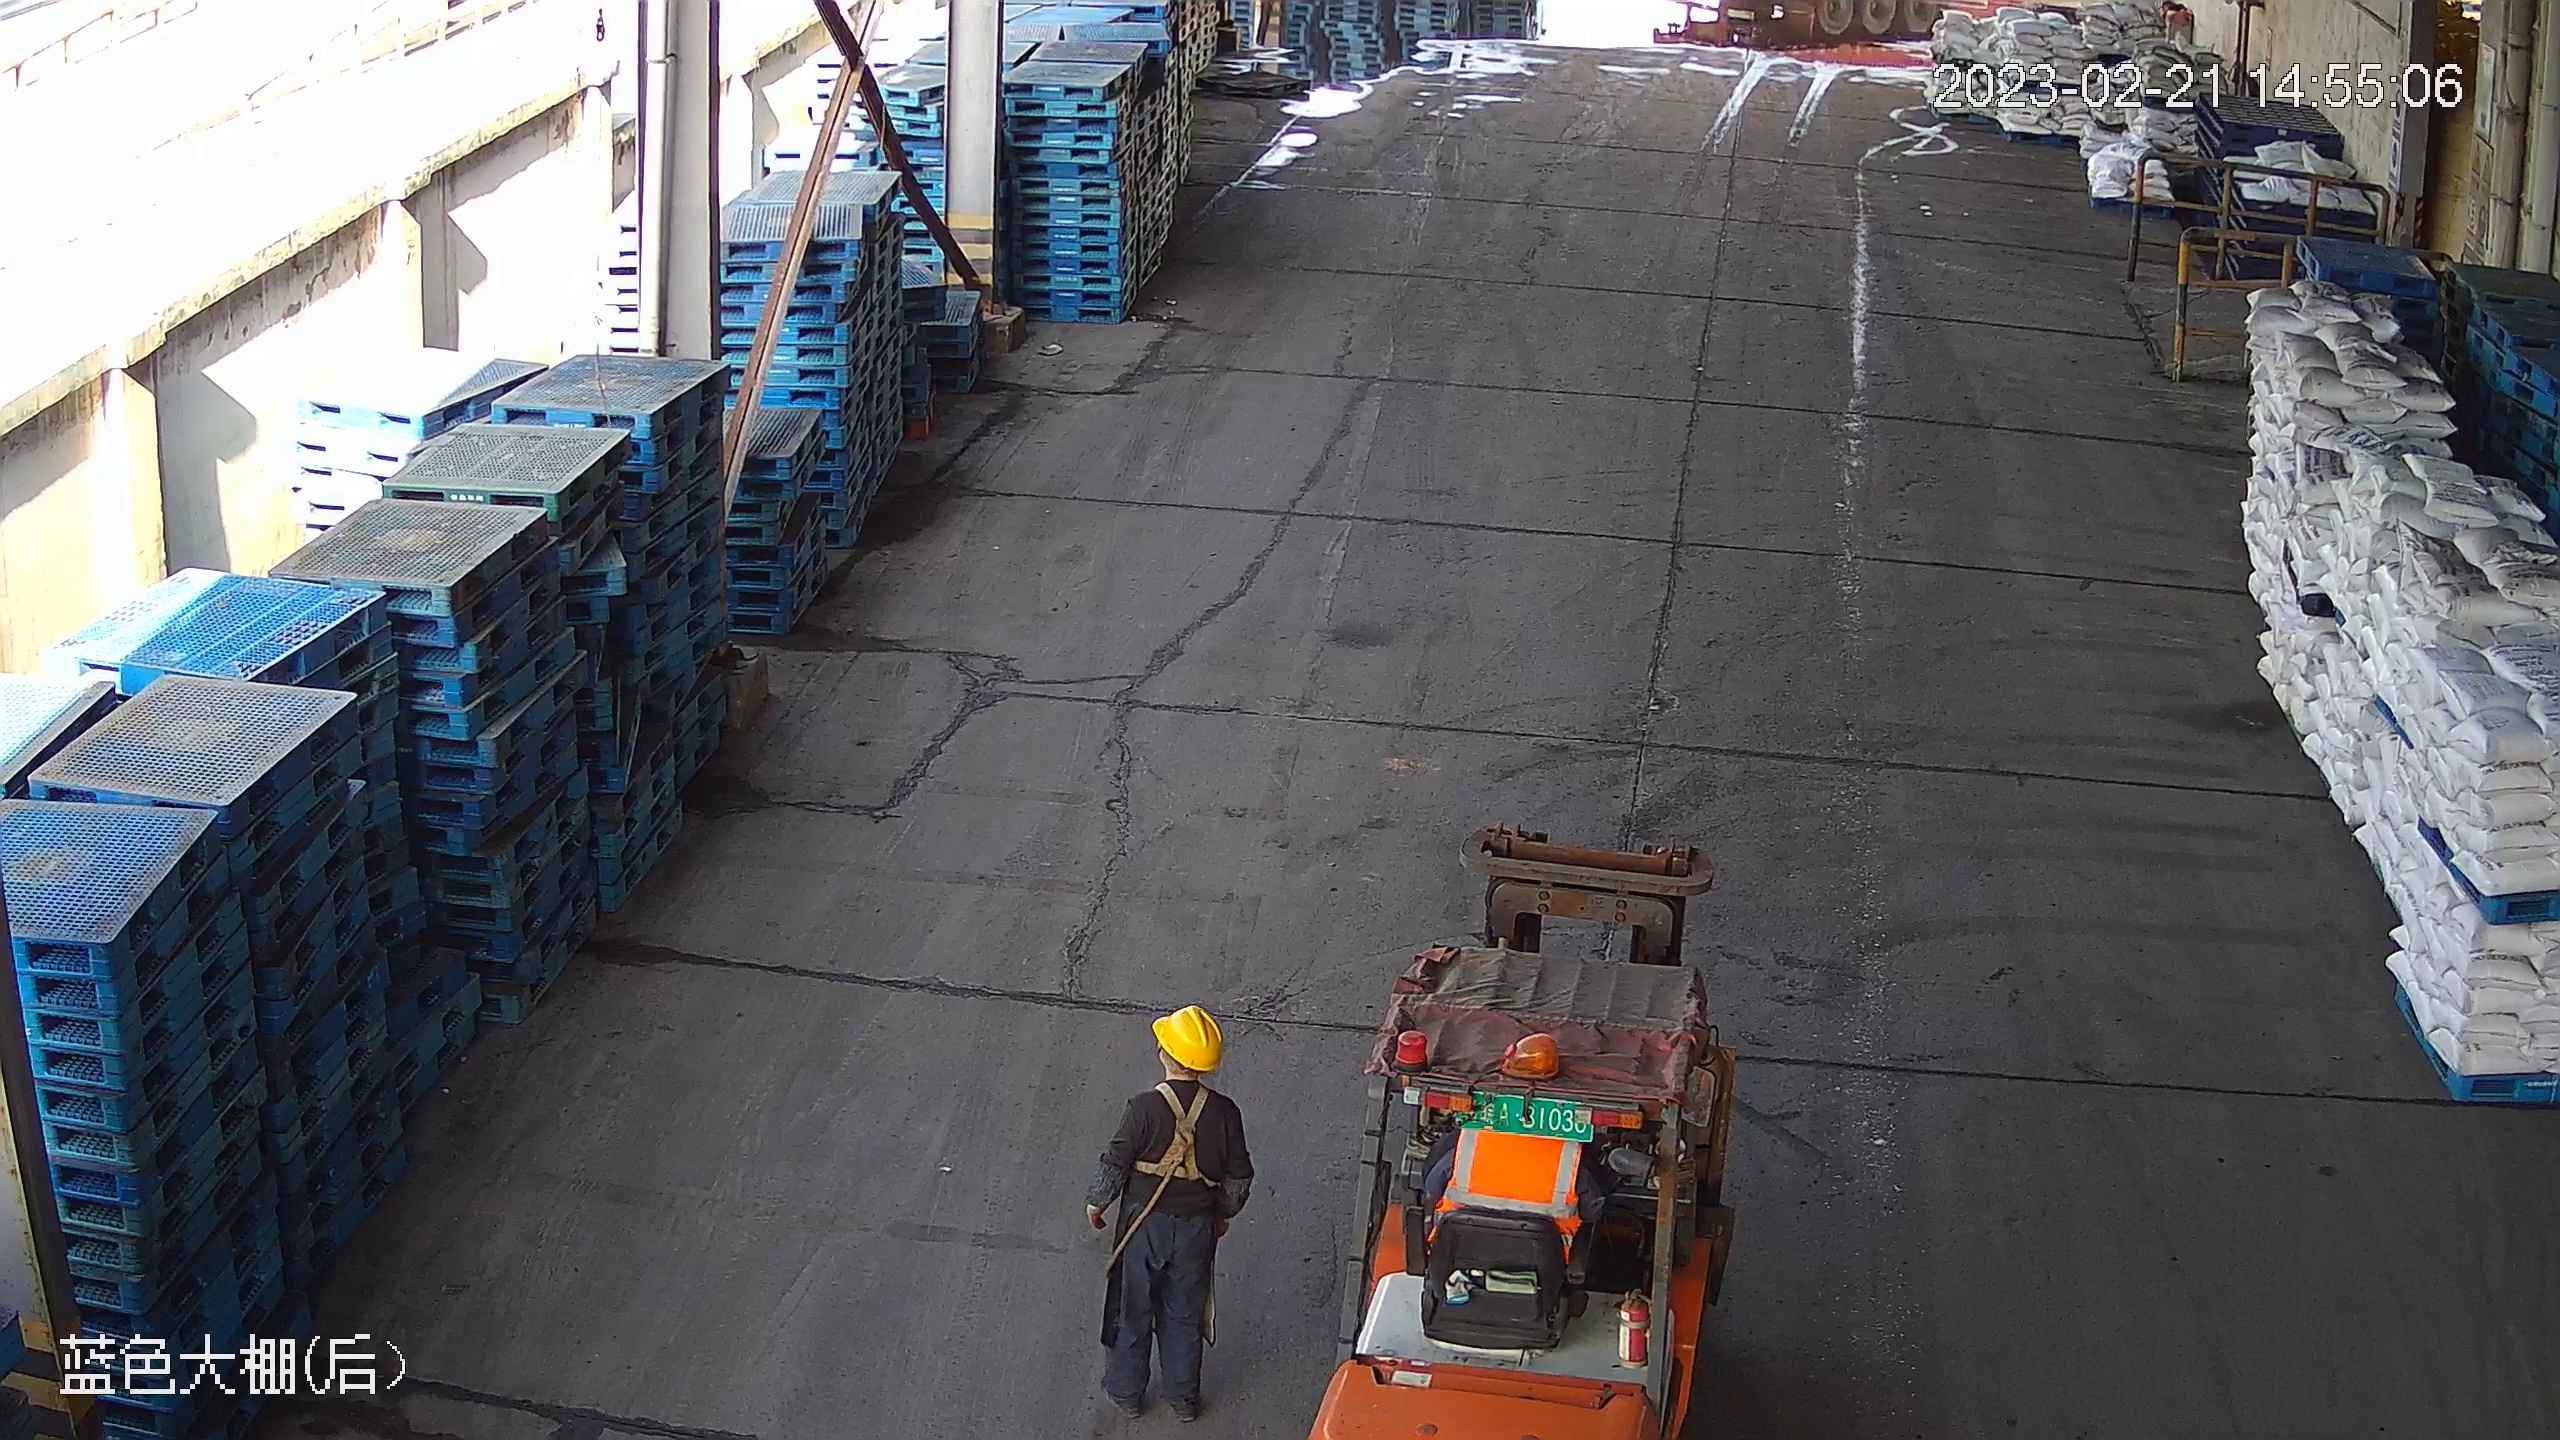belt: (1131, 1082, 1221, 1190)
head: (1115, 1006, 1247, 1147)
helmet: (1150, 1004, 1224, 1075)
people: (1083, 1005, 1253, 1425)
